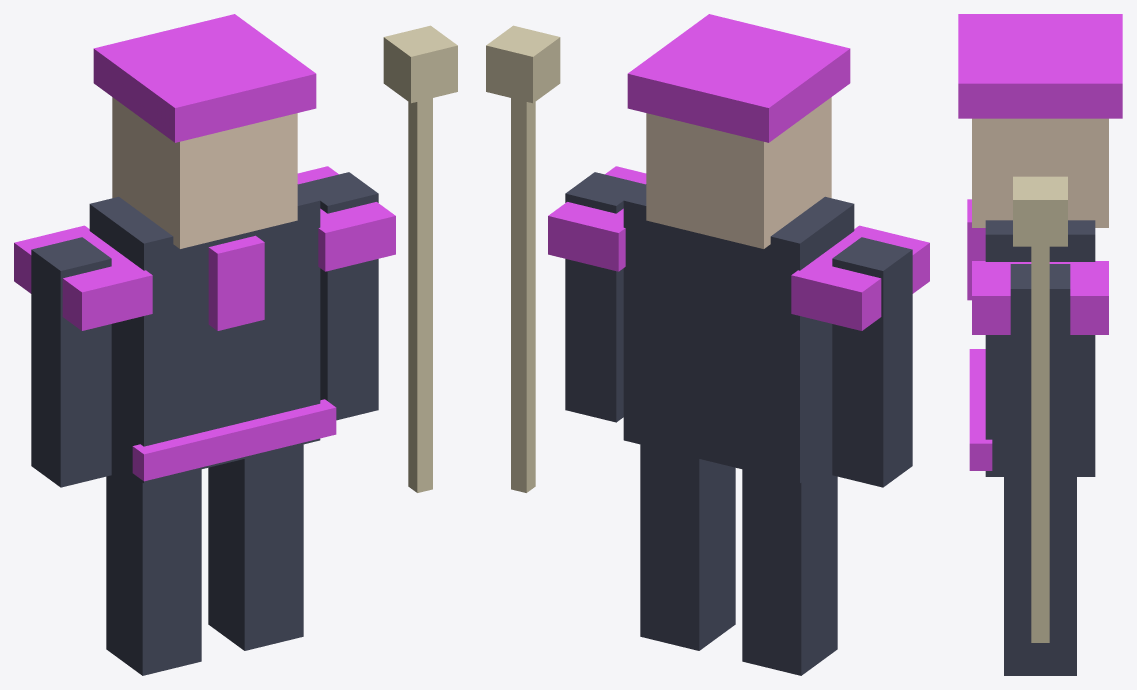
Rendered from 05_vela_gravesong_warden_from_gatehouse.glb.
3 views of the same model, side by side, from view 1: azimuth 30°, elevation 25°; view 2: azimuth 150°, elevation 25°; view 3: azimuth 270°, elevation 25° (orthographic).
Visible parts, largest first — view 1: Vela Gravesong, Warden from Gatehouse; view 2: Vela Gravesong, Warden from Gatehouse; view 3: Vela Gravesong, Warden from Gatehouse.
Boxes of the visible parts, x1,y1,x2,y2 form: Vela Gravesong, Warden from Gatehouse: (14, 14, 457, 675); Vela Gravesong, Warden from Gatehouse: (486, 14, 929, 675); Vela Gravesong, Warden from Gatehouse: (958, 14, 1122, 675).
Bounding box in the file's own units: 0.9977 × 1.39 × 0.3539.
